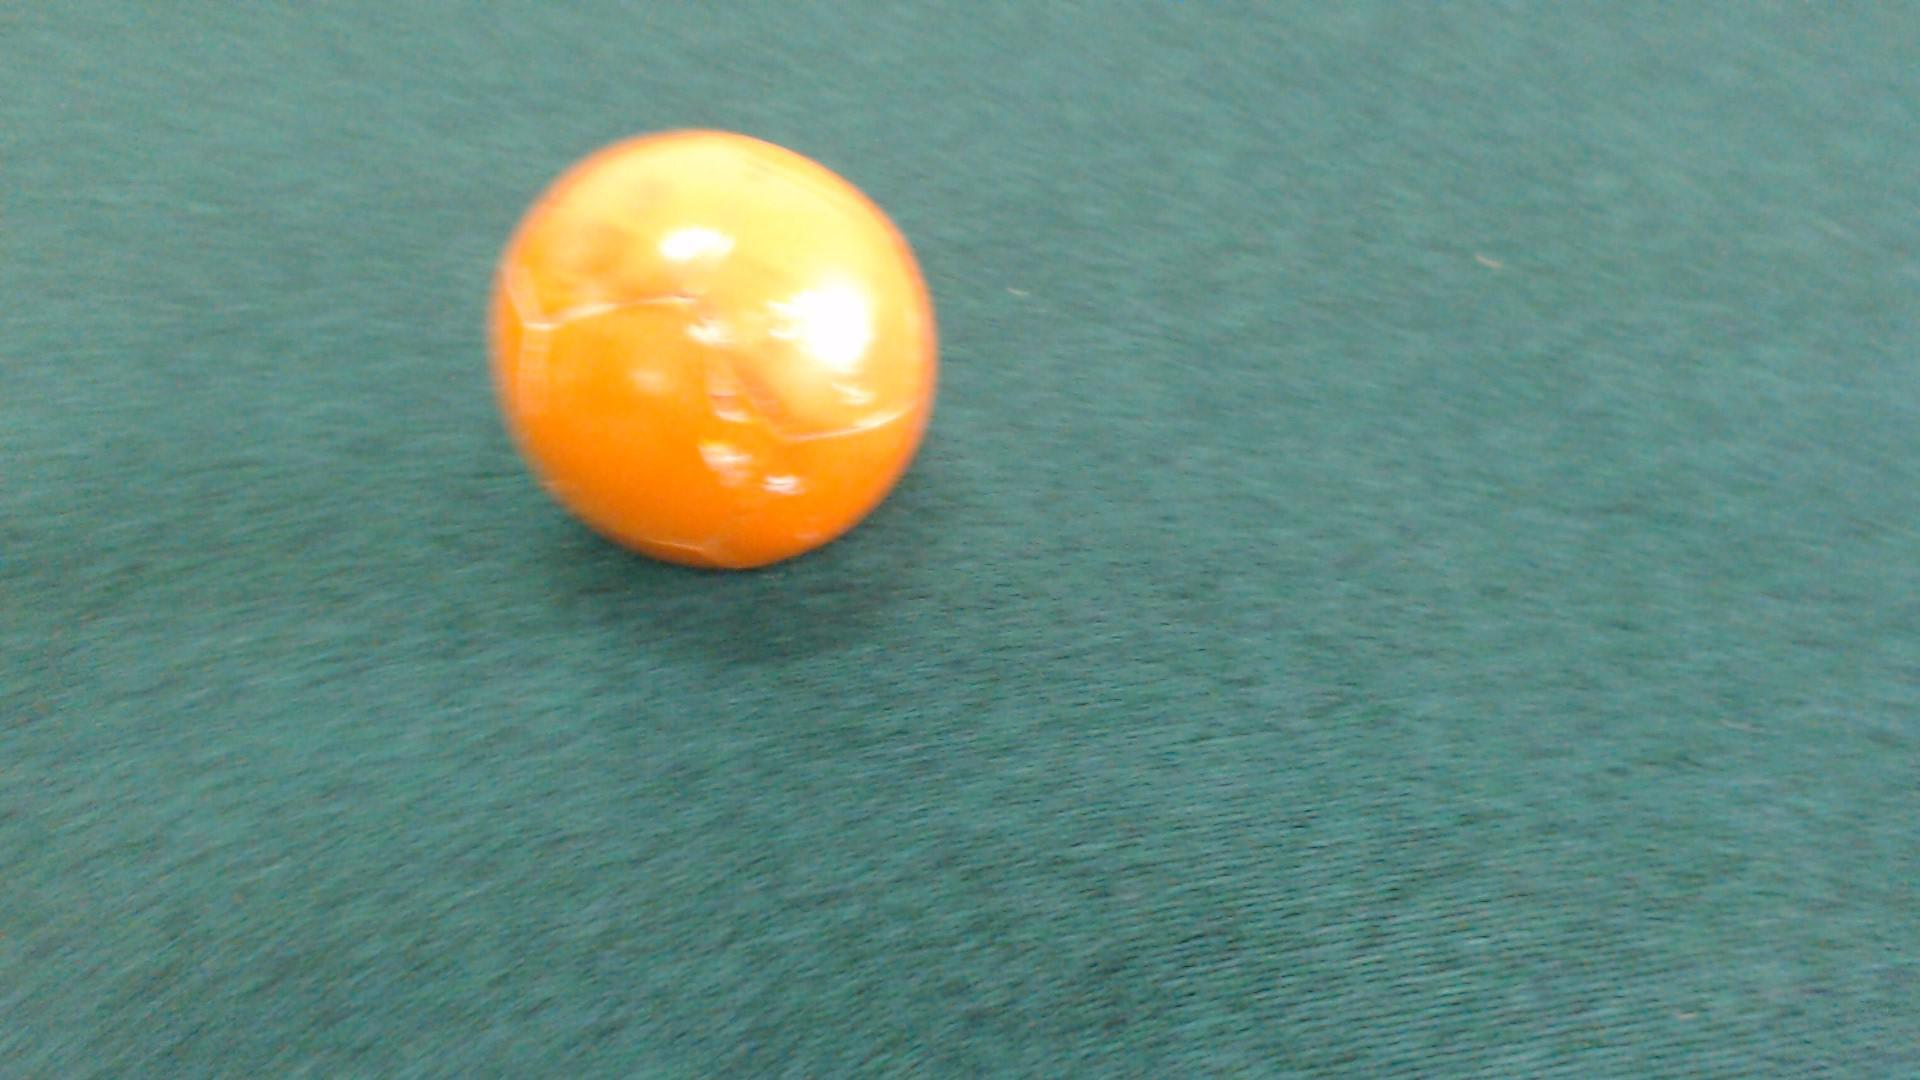bola: (450, 119, 963, 603)
